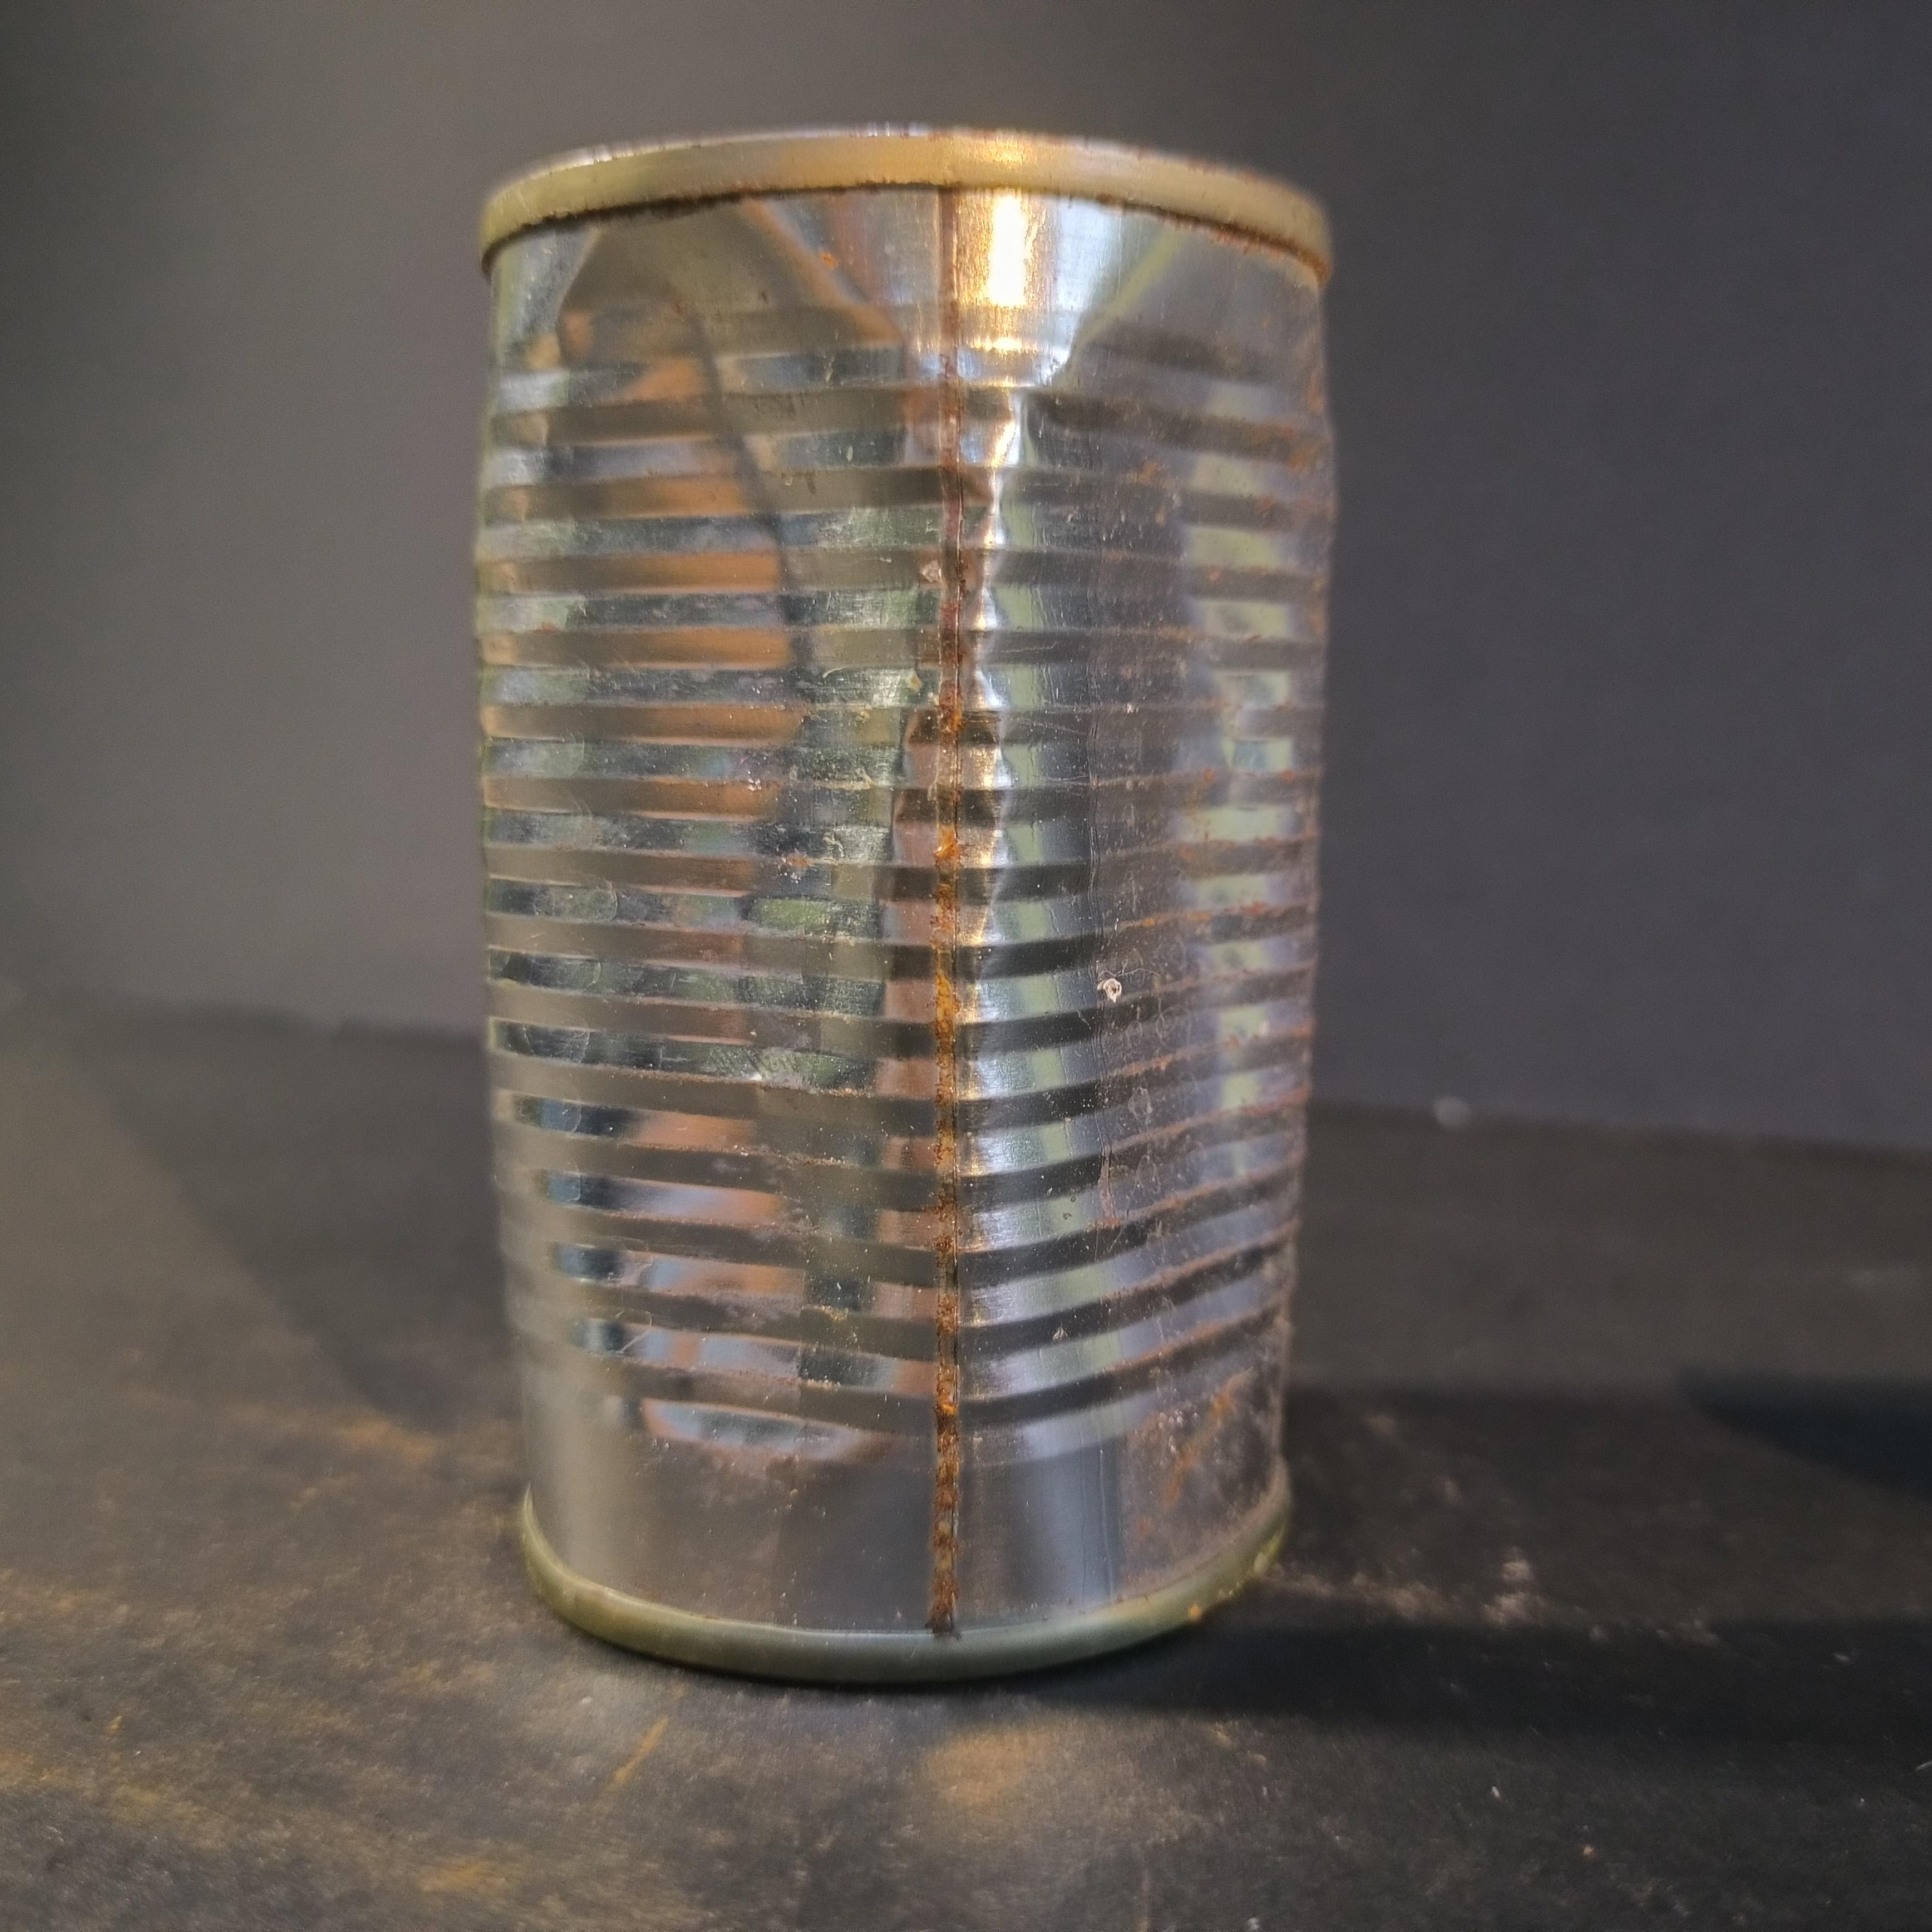Minor Defect: (474, 127, 1339, 1690)
